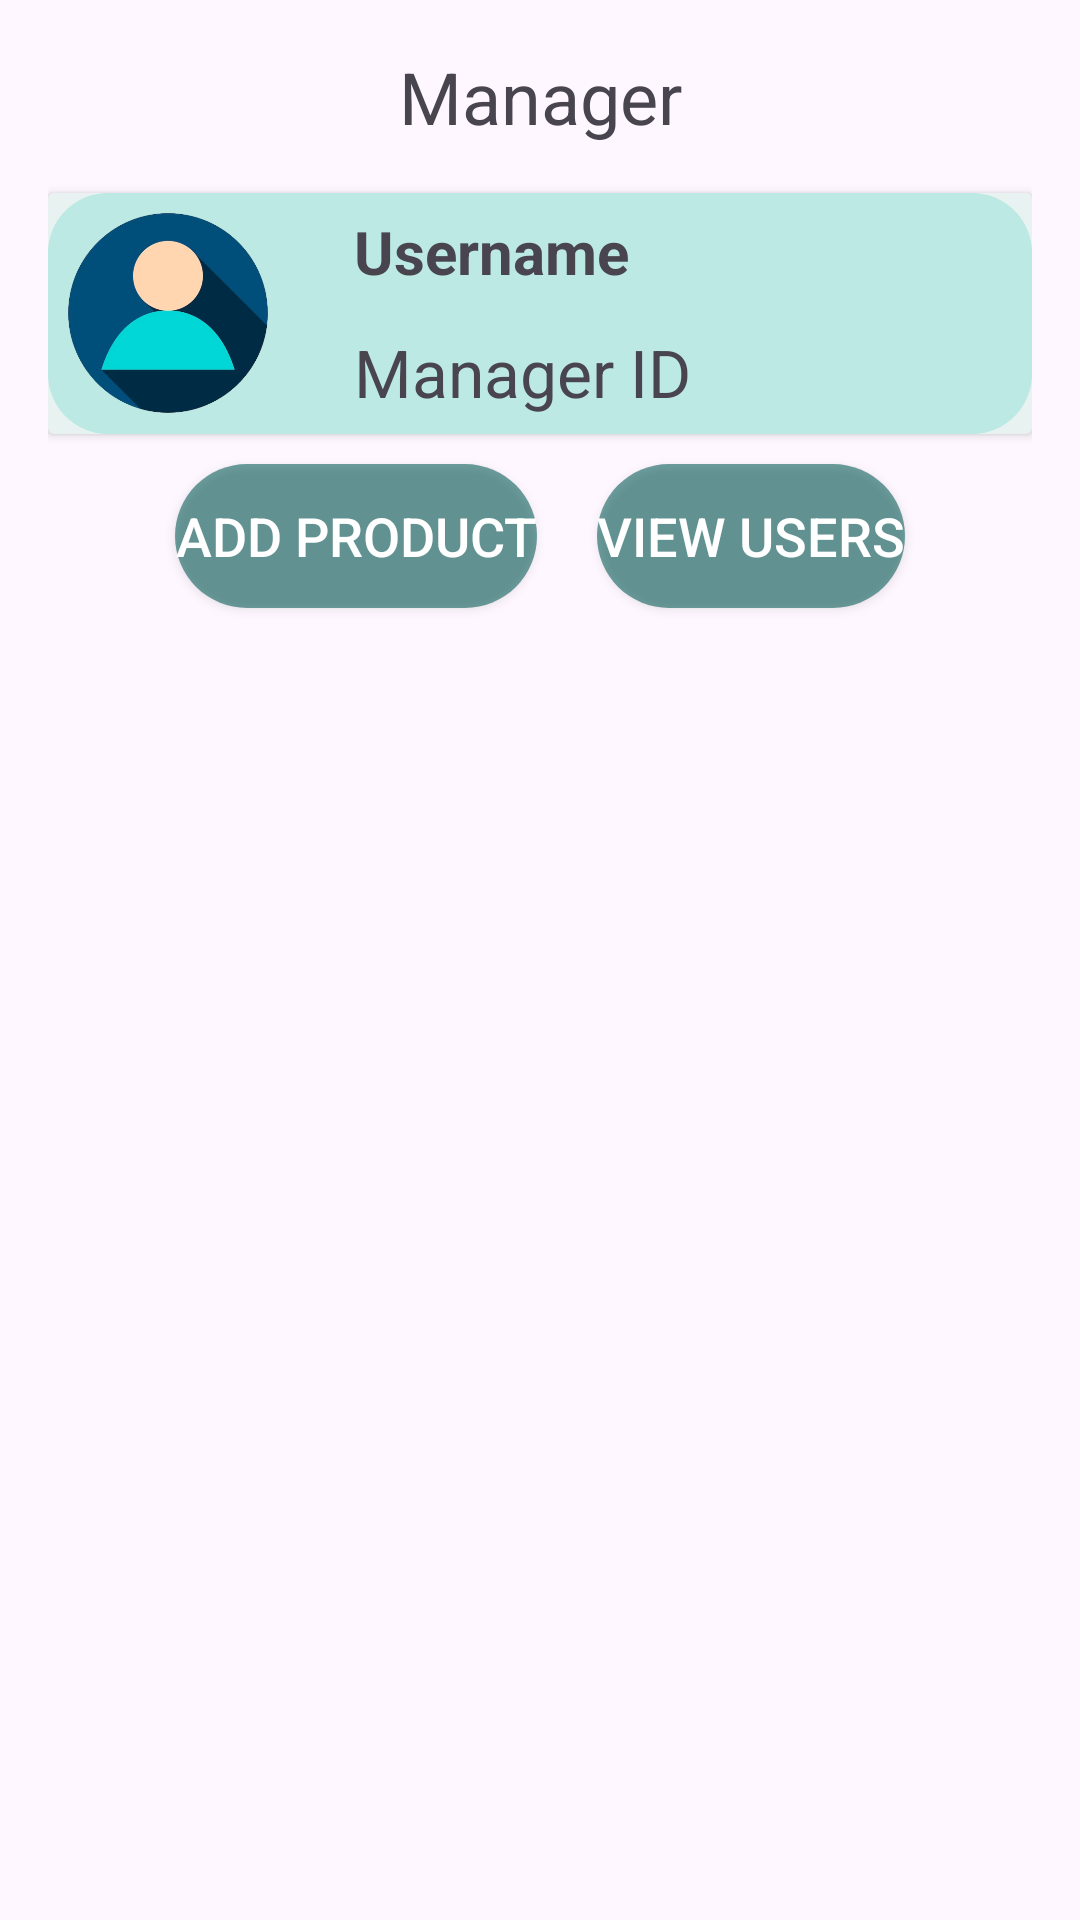

Icon bounding boxes for this 1080 x 1920 phone screenshot, format (x1, y1, x2, y2):
userimg: (48, 193, 288, 433)
